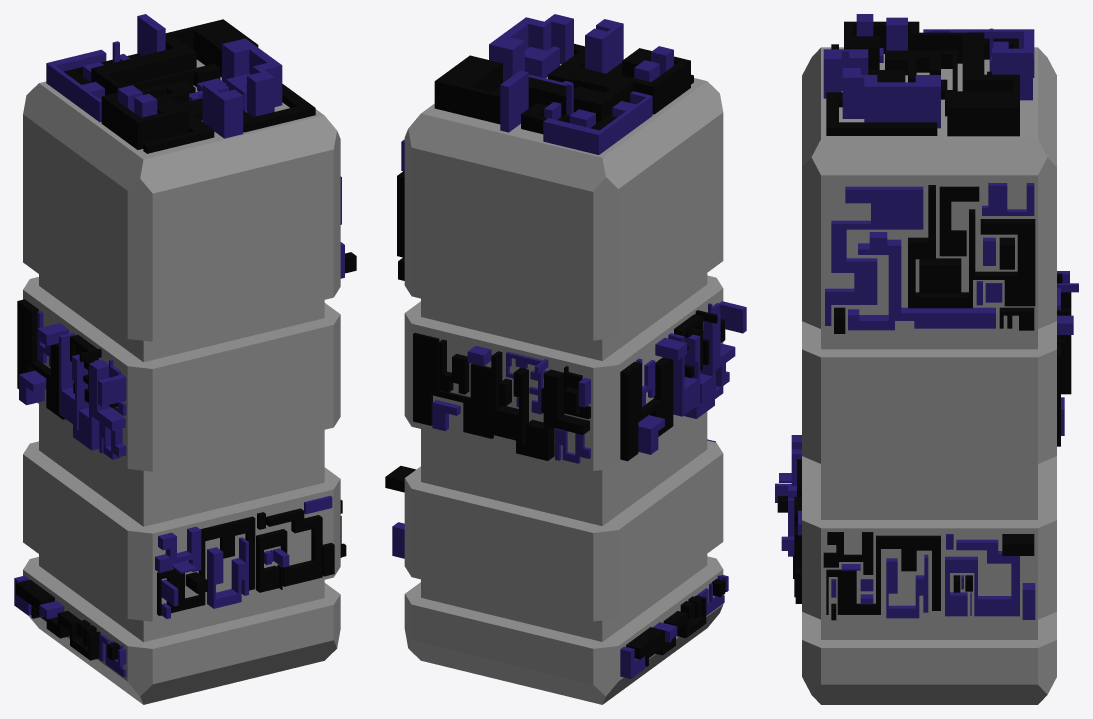
Rendered from cuboid_tall.fbx.
The picture shows the model from 3 angles, left to right: view 1: azimuth 30°, elevation 25°; view 2: azimuth 150°, elevation 25°; view 3: azimuth 270°, elevation 25°; orthographic projection. The views are drawn at different scales.
Parts seen in each view (by area): view 1: CuboidTall; view 2: CuboidTall; view 3: CuboidTall.
Part boxes in pixels (x1,y1,x2,y2): CuboidTall: [14, 14, 356, 704]; CuboidTall: [385, 14, 746, 704]; CuboidTall: [775, 14, 1078, 704].
Size of the model in its own units: 308 by 669 by 300.
